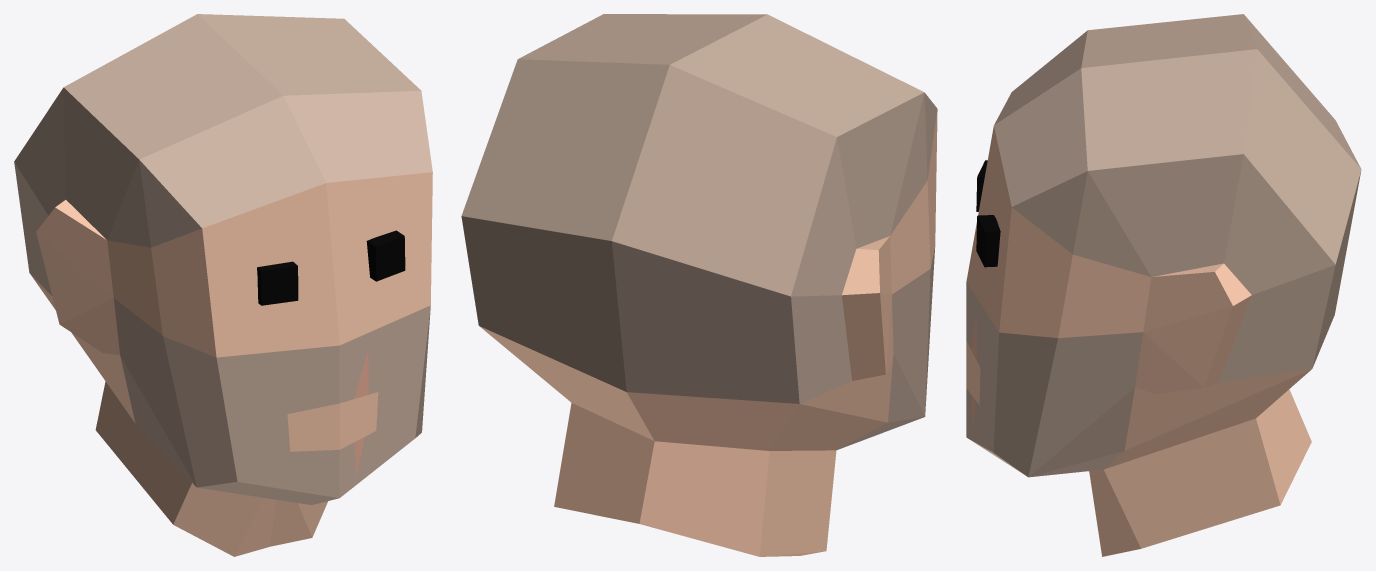
Rendered from Chr_Head_Male_03_Static.fbx.
3 renders of one model, left to right at view 1: azimuth 30°, elevation 25°; view 2: azimuth 150°, elevation 25°; view 3: azimuth 270°, elevation 25°, orthographic. The views are drawn at different scales.
Visible parts, largest first — view 1: Chr_Head_Male_03_Static; view 2: Chr_Head_Male_03_Static; view 3: Chr_Head_Male_03_Static.
Boxes of the visible parts, <box> form: Chr_Head_Male_03_Static: <box>14,14,432,556</box>; Chr_Head_Male_03_Static: <box>461,14,937,556</box>; Chr_Head_Male_03_Static: <box>966,14,1361,556</box>.
Bounding box in the file's own units: 0.2661 × 0.3523 × 0.2574.
